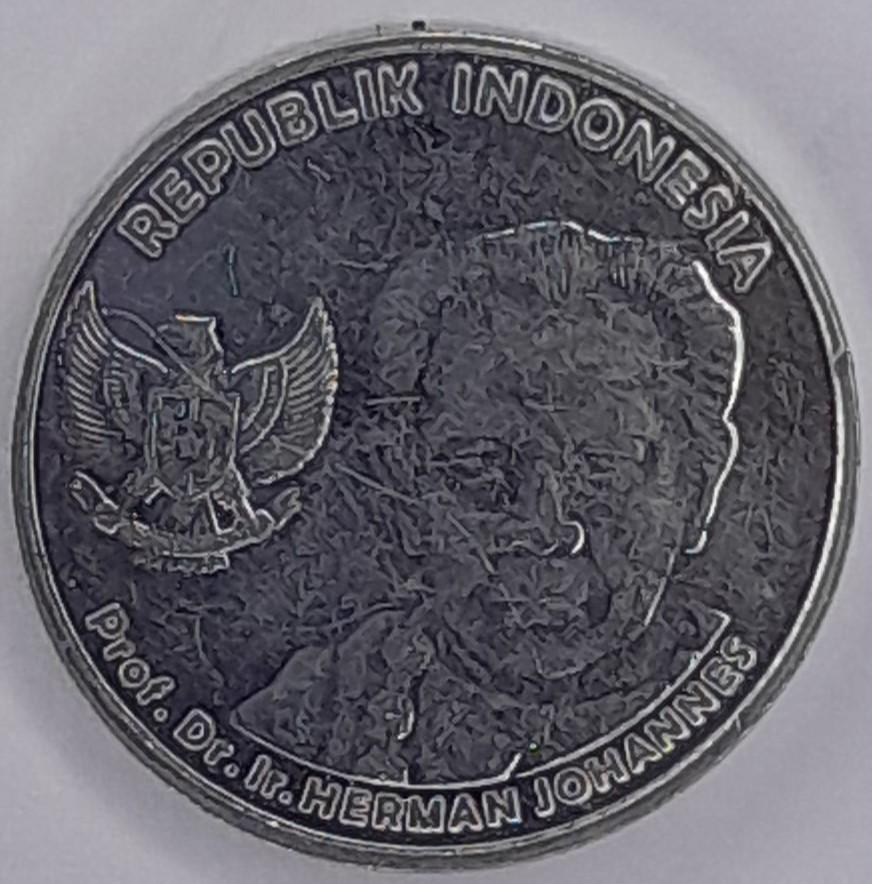coin_100_e2016: (6, 17, 865, 872)
